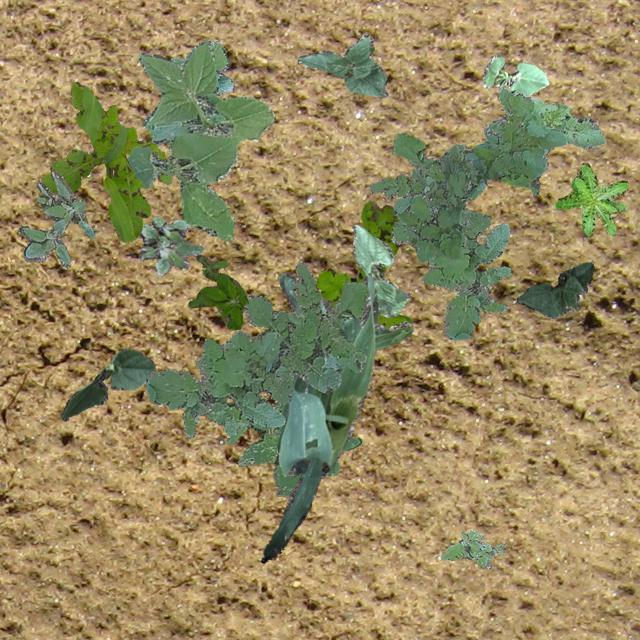crop: (259, 272, 412, 562), (59, 348, 154, 419), (296, 34, 386, 96), (350, 224, 410, 316), (516, 262, 592, 318), (170, 40, 233, 94), (482, 54, 548, 94)
weed: (144, 262, 368, 438), (391, 86, 603, 260), (126, 38, 274, 240), (368, 132, 509, 338), (196, 354, 360, 496), (40, 80, 170, 240), (316, 200, 410, 328), (16, 170, 94, 268), (554, 162, 628, 234), (188, 254, 246, 328), (138, 216, 202, 274), (440, 528, 504, 568)
